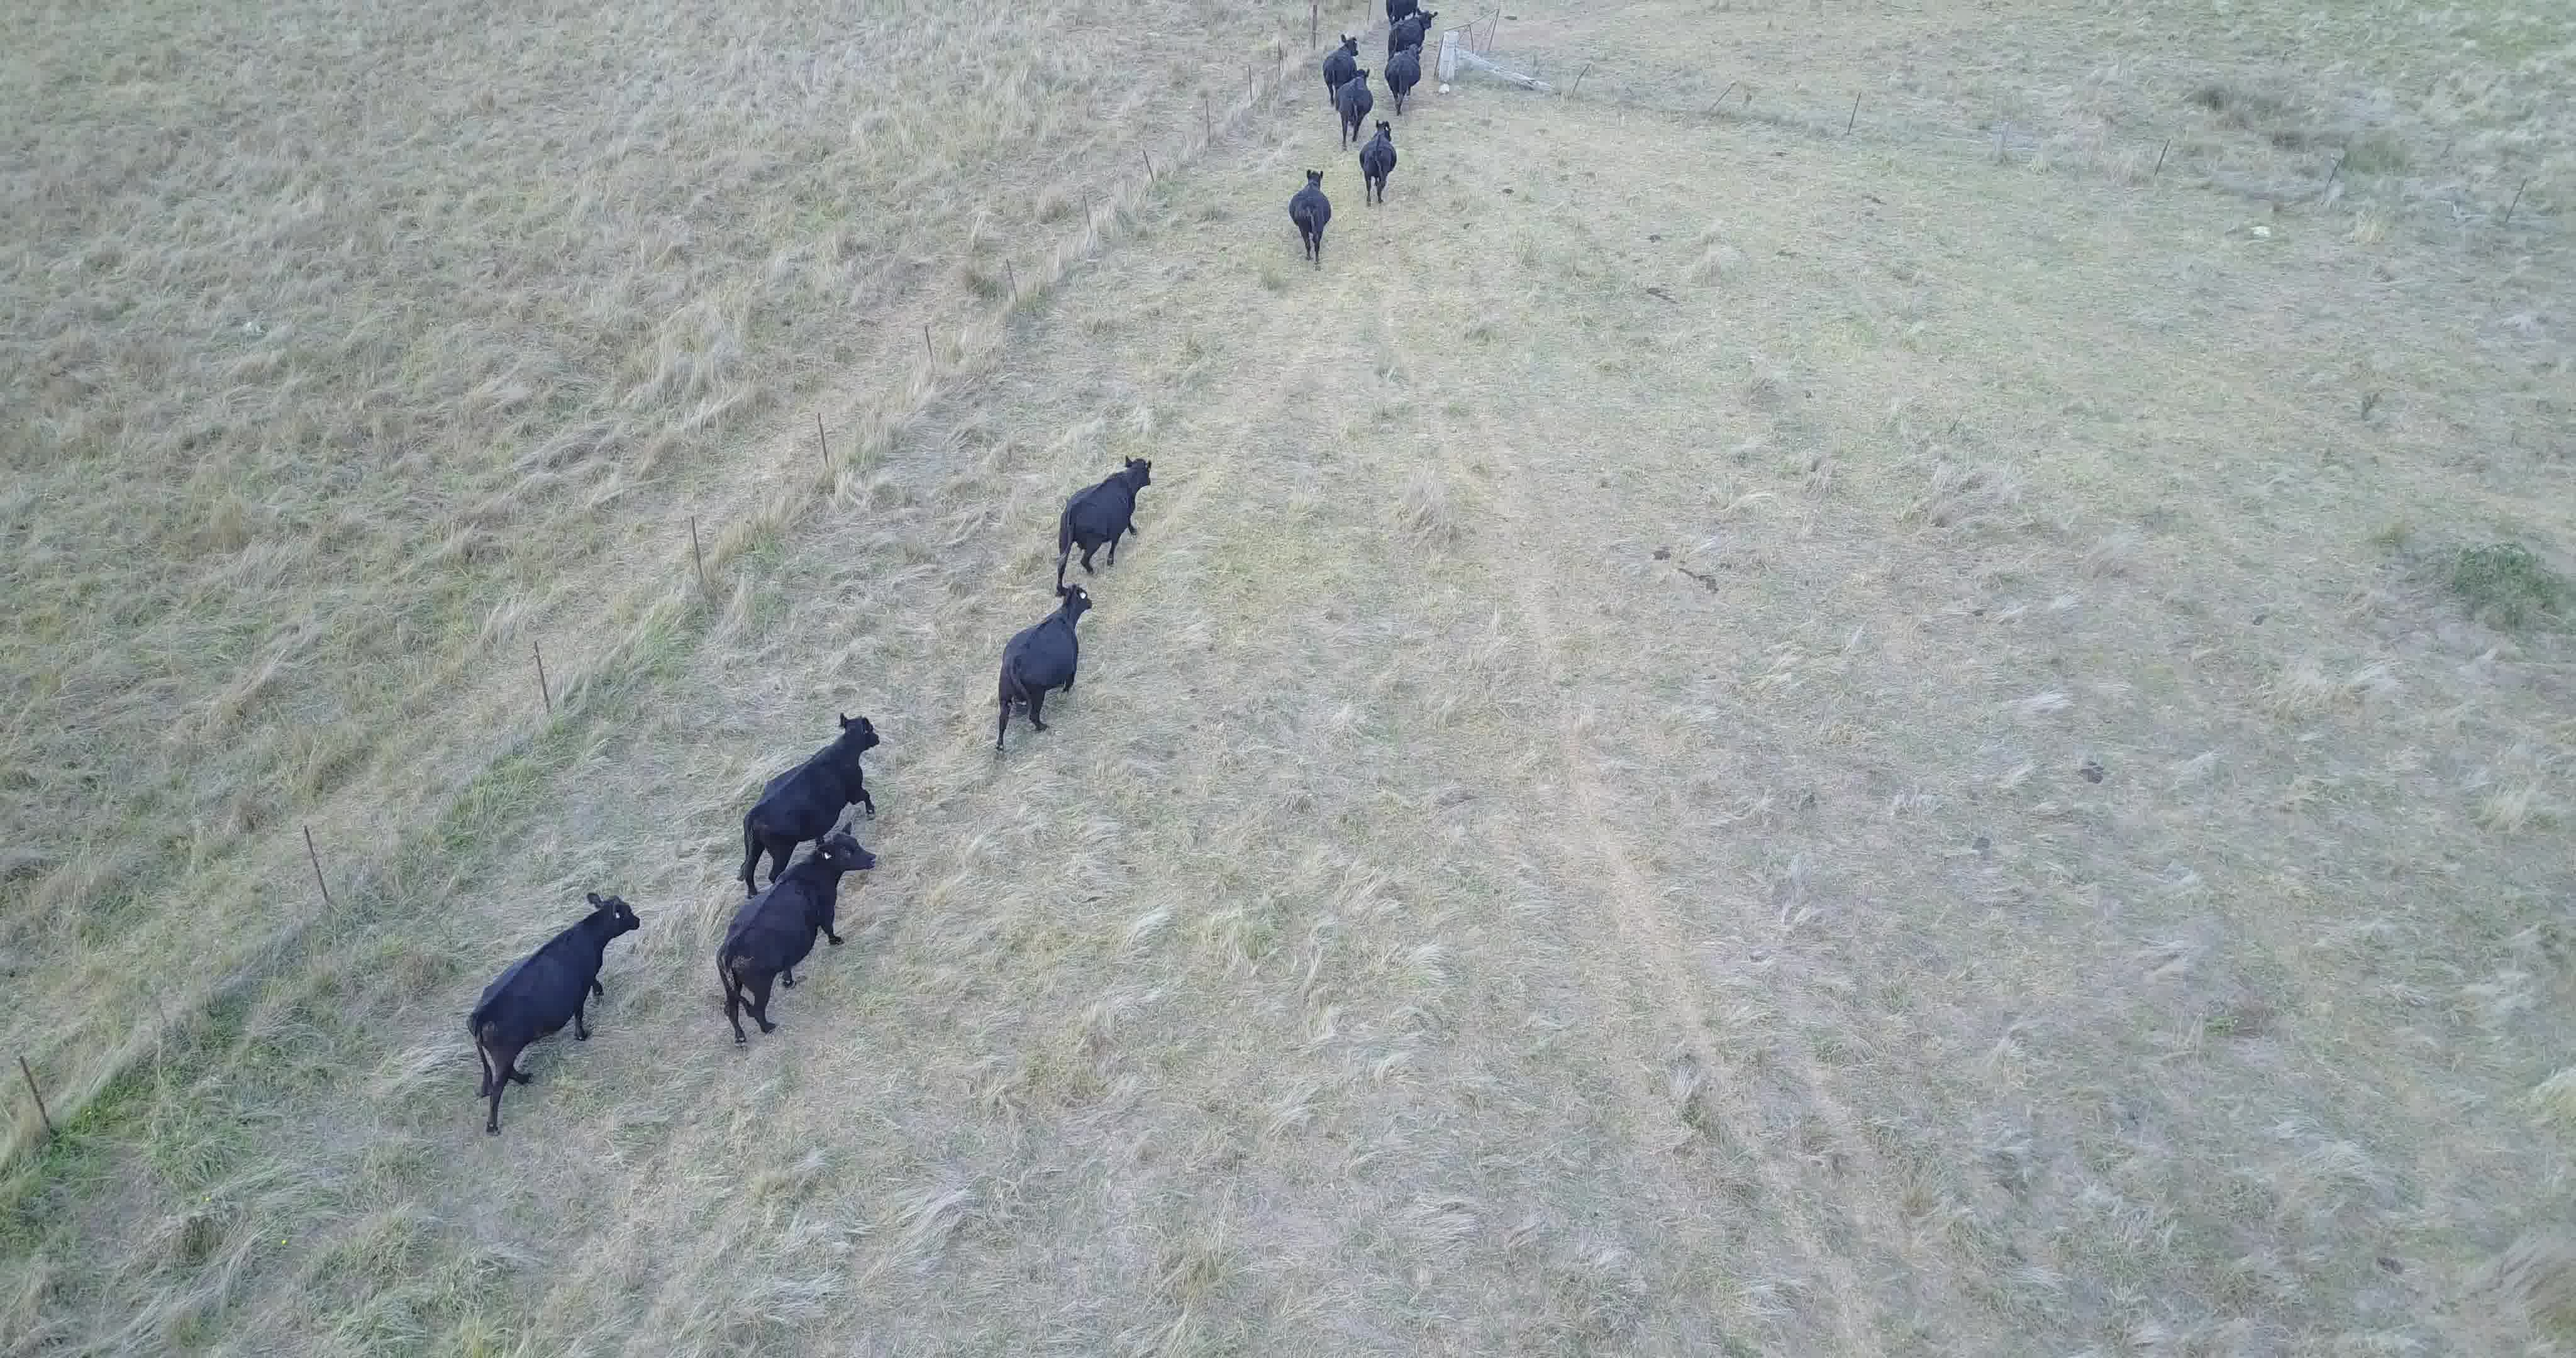cattle: (458, 886, 646, 1143), (704, 828, 879, 1041), (988, 583, 1095, 763), (731, 705, 874, 837), (1046, 445, 1157, 590), (1281, 165, 1336, 274), (1358, 118, 1399, 210), (1336, 68, 1375, 143), (1383, 44, 1421, 112), (1389, 9, 1436, 51), (1324, 32, 1360, 82), (1383, 0, 1421, 20)
